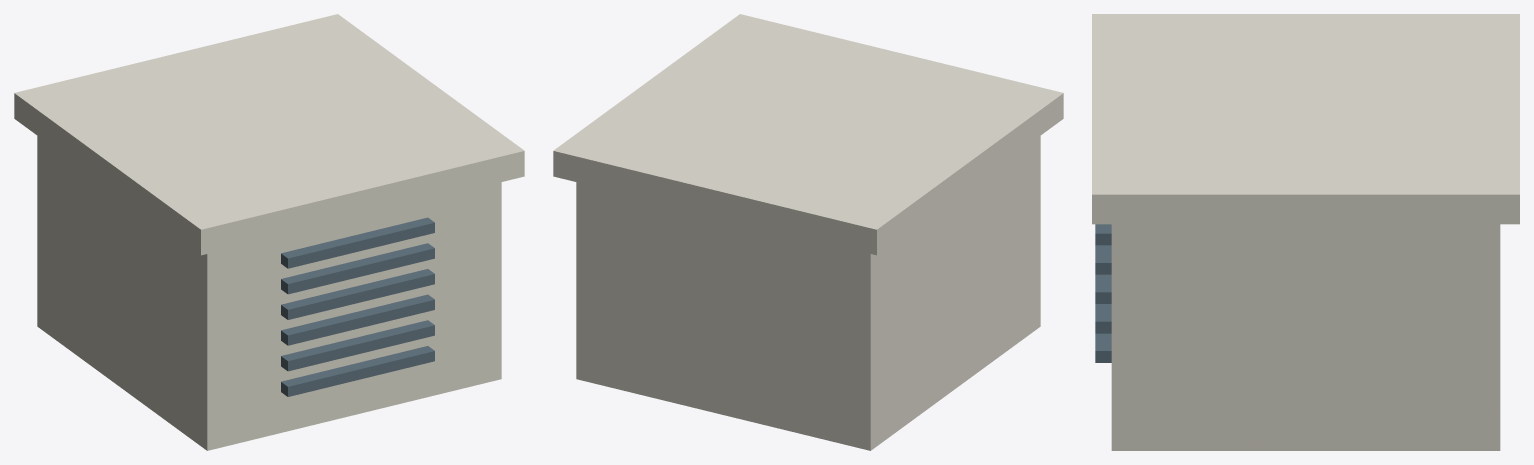
The model's file is voxel-city-districts-lift-overrun-dc0b1090__24927.glb.
The picture shows the model from 3 angles, left to right: view 1: azimuth 30°, elevation 25°; view 2: azimuth 150°, elevation 25°; view 3: azimuth 270°, elevation 25°; orthographic projection. The views are drawn at different scales.
Visible parts, largest first — view 1: lift-overrun-concrete, lift-overrun-dark; view 2: lift-overrun-concrete; view 3: lift-overrun-concrete, lift-overrun-dark.
Part boxes in pixels (x1,y1,x2,y2): lift-overrun-concrete: (14, 14, 524, 450); lift-overrun-dark: (281, 217, 434, 396); lift-overrun-concrete: (553, 14, 1063, 450); lift-overrun-concrete: (1092, 14, 1519, 450); lift-overrun-dark: (1095, 224, 1111, 362).
Size of the model in its own units: 3.3 by 2.25 by 3.3.
